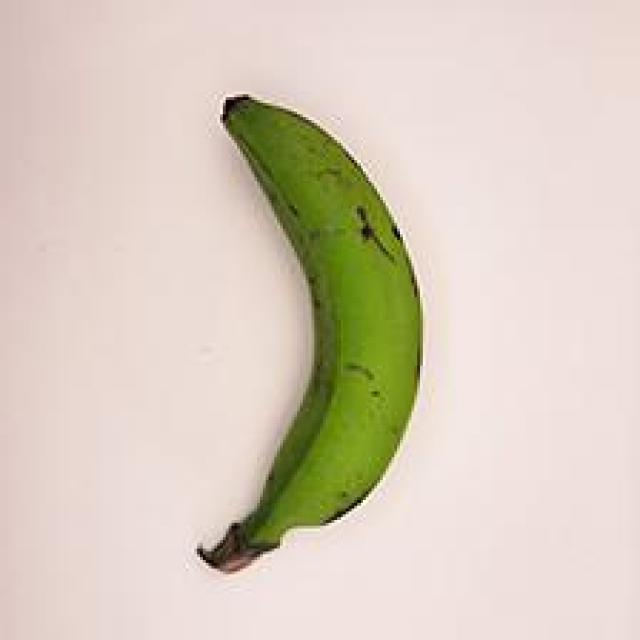Raw: (138, 73, 460, 598)
